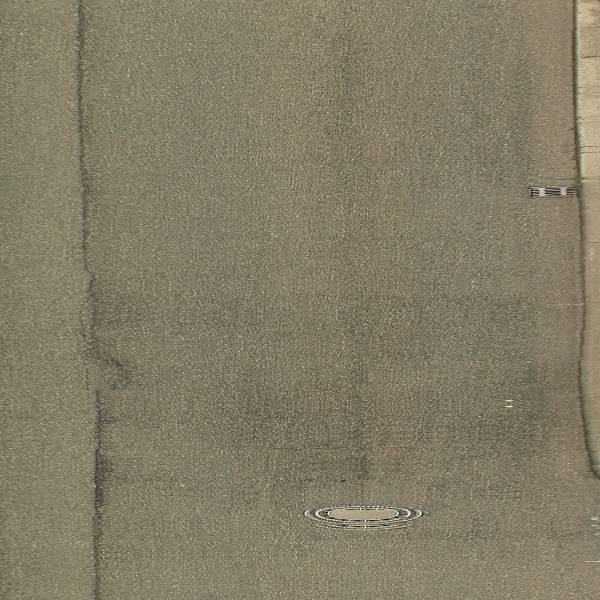road_damage: (77, 351, 144, 600)
